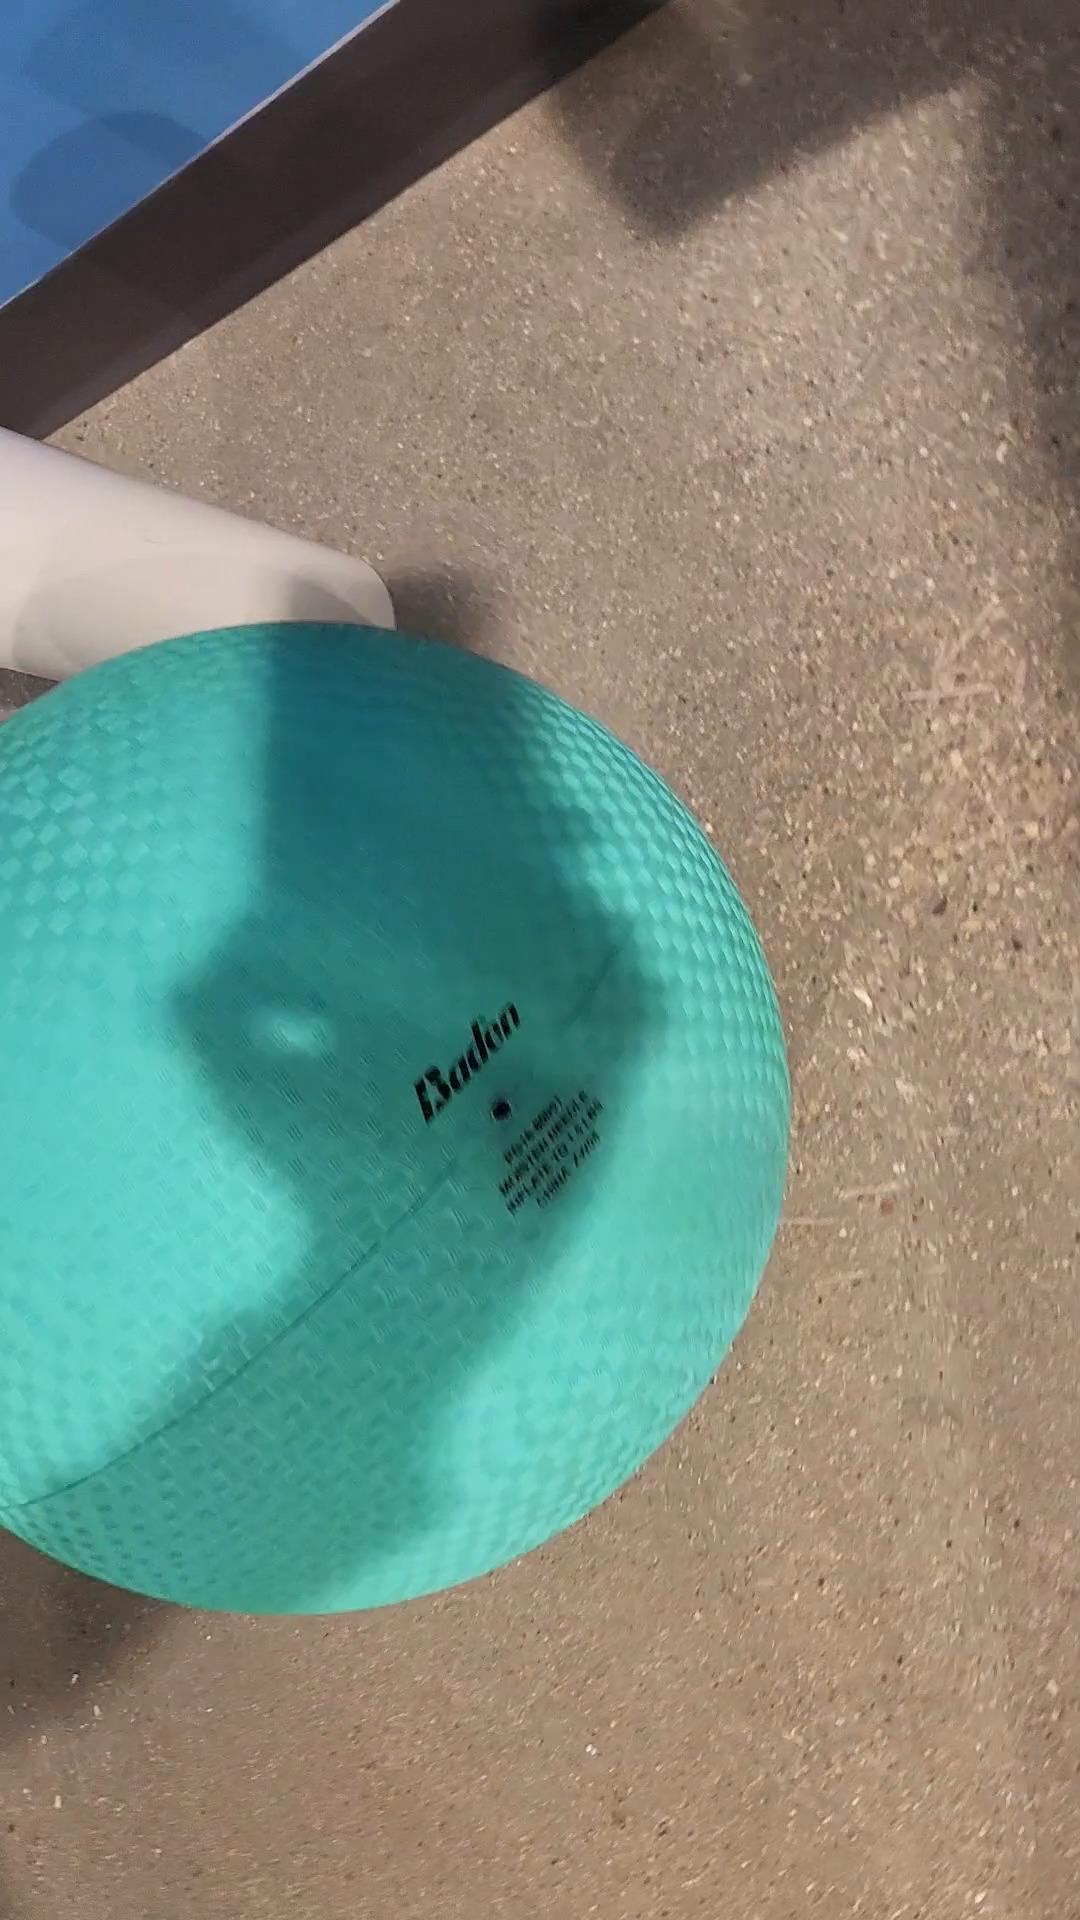algae: (0, 620, 788, 1615)
